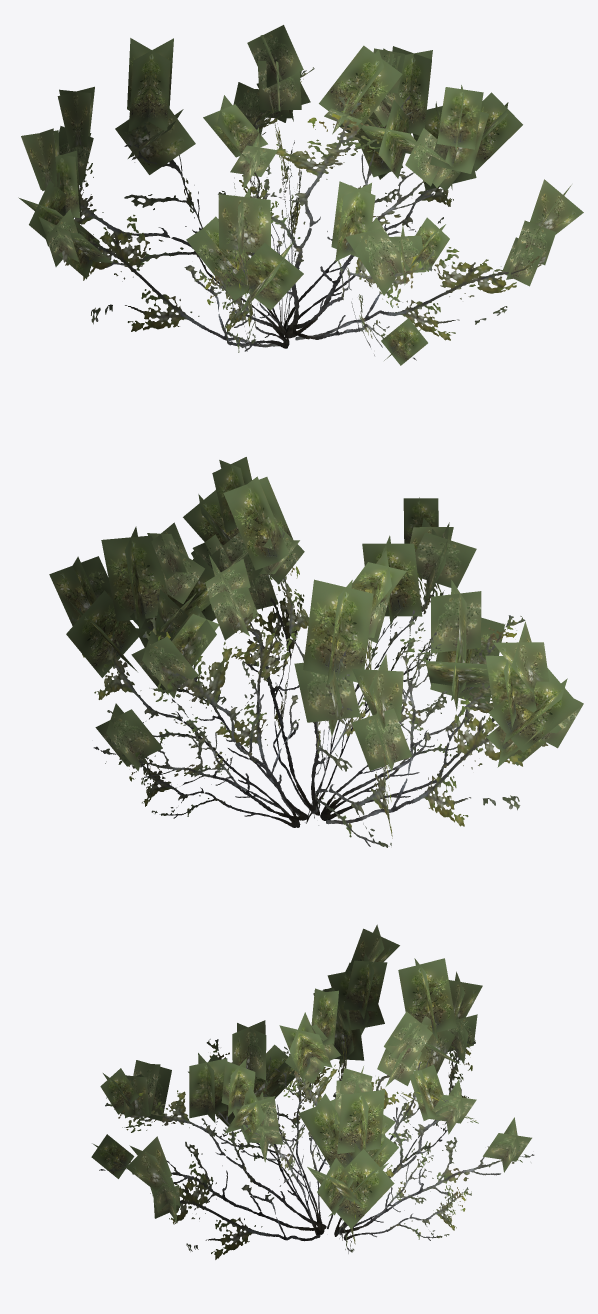
The model's file is DesertPlant04.FBX.
3 views of the same model, one above another, from view 1: azimuth 30°, elevation 25°; view 2: azimuth 150°, elevation 25°; view 3: azimuth 270°, elevation 25° (orthographic). The views are drawn at different scales.
Parts seen in each view (by area): view 1: DesertPlant04A; view 2: DesertPlant04A; view 3: DesertPlant04A.
Boxes of the visible parts, <box> form: DesertPlant04A: <box>18,25,583,365</box>; DesertPlant04A: <box>49,457,583,847</box>; DesertPlant04A: <box>91,924,534,1259</box>.
Bounding box in the file's own units: 7.11 × 4.97 × 8.34.
